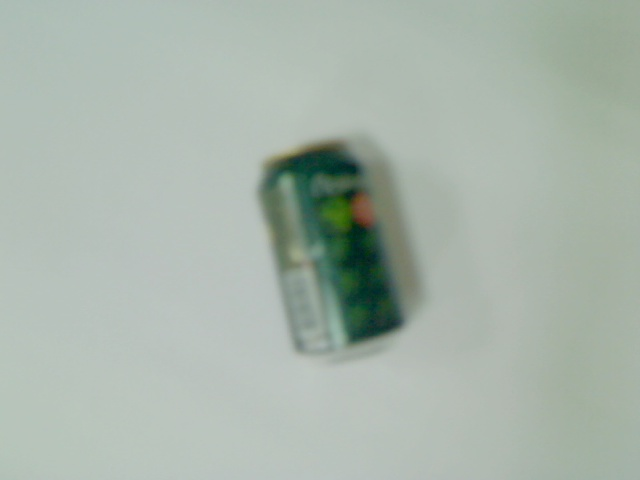can: (255, 137, 410, 364)
